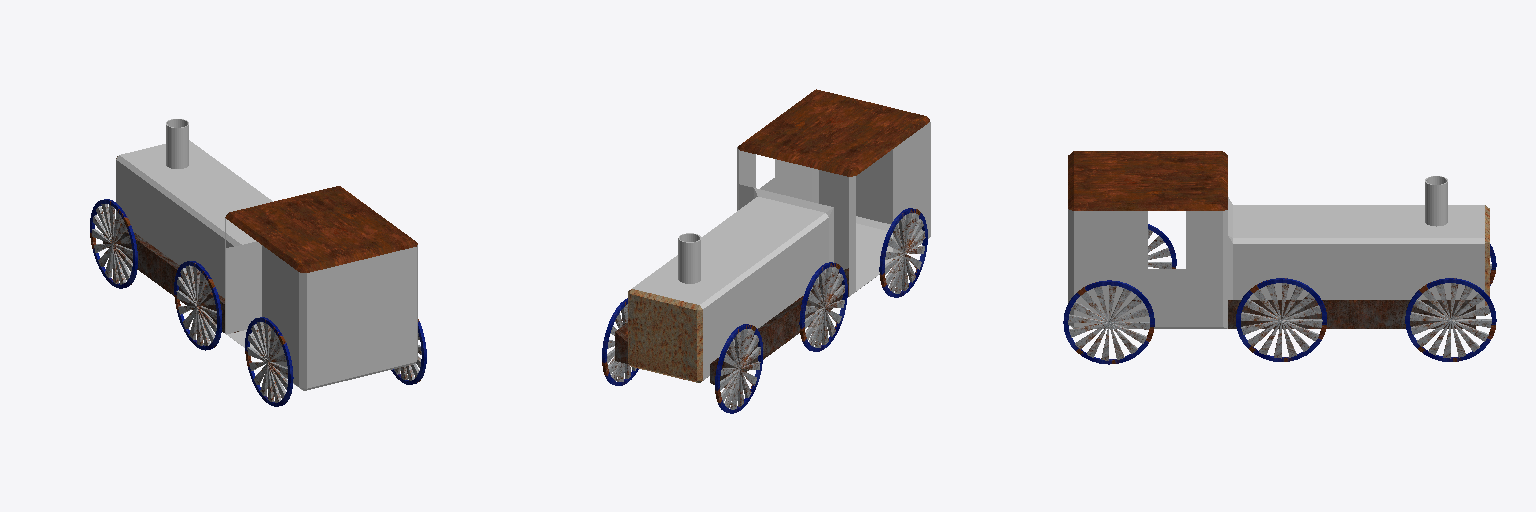
The picture shows the model from 3 angles: view 1: azimuth 30°, elevation 25°; view 2: azimuth 150°, elevation 25°; view 3: azimuth 270°, elevation 25°; orthographic projection.
Parts seen in each view (by area): view 1: body_Cube.001, spoke.002_data.019, spoke.001_data.016, spoke_data.002, chimney_Cube.002, rim.002_data.018, rim.001_data.015, rim_data.001; view 2: body_Cube.001, spoke.002_data.019, spoke_data.002, spoke.001_data.016, chimney_Cube.002, rim.002_data.018, rim_data.001, rim.001_data.015, spoke.003_data.022, rim.003_data.021; view 3: body_Cube.001, spoke.003_data.022, spoke.004_data.025, spoke.005_data.028, rim.005_data.027, rim.003_data.021, rim.004_data.024, chimney_Cube.002.
Part boxes in pixels (left/top/right/bottom): body_Cube.001: left=103, top=140, right=417, bottom=390; spoke.002_data.019: left=247, top=322, right=287, bottom=402; spoke.001_data.016: left=176, top=265, right=216, bottom=345; spoke_data.002: left=92, top=204, right=132, bottom=284; chimney_Cube.002: left=166, top=119, right=188, bottom=168; rim.002_data.018: left=245, top=317, right=293, bottom=406; rim.001_data.015: left=174, top=261, right=221, bottom=350; rim_data.001: left=90, top=199, right=137, bottom=288; body_Cube.001: left=615, top=89, right=930, bottom=387; spoke.002_data.019: left=885, top=213, right=925, bottom=293; spoke_data.002: left=720, top=329, right=760, bottom=409; spoke.001_data.016: left=804, top=267, right=844, bottom=347; chimney_Cube.002: left=678, top=233, right=700, bottom=283; rim.002_data.018: left=879, top=208, right=927, bottom=297; rim_data.001: left=715, top=324, right=762, bottom=413; rim.001_data.015: left=799, top=262, right=847, bottom=351; spoke.003_data.022: left=607, top=304, right=636, bottom=381; rim.003_data.021: left=602, top=298, right=638, bottom=385; body_Cube.001: left=1068, top=151, right=1489, bottom=328; spoke.003_data.022: left=1410, top=283, right=1491, bottom=358; spoke.004_data.025: left=1241, top=283, right=1322, bottom=358; spoke.005_data.028: left=1068, top=285, right=1149, bottom=360; rim.005_data.027: left=1063, top=280, right=1154, bottom=364; rim.003_data.021: left=1405, top=278, right=1496, bottom=361; rim.004_data.024: left=1236, top=278, right=1326, bottom=361; chimney_Cube.002: left=1425, top=176, right=1447, bottom=226.
Bounding box in the file's own units: 3.16 × 3.76 × 9.47.
Materials: 9 (5 with a texture image).